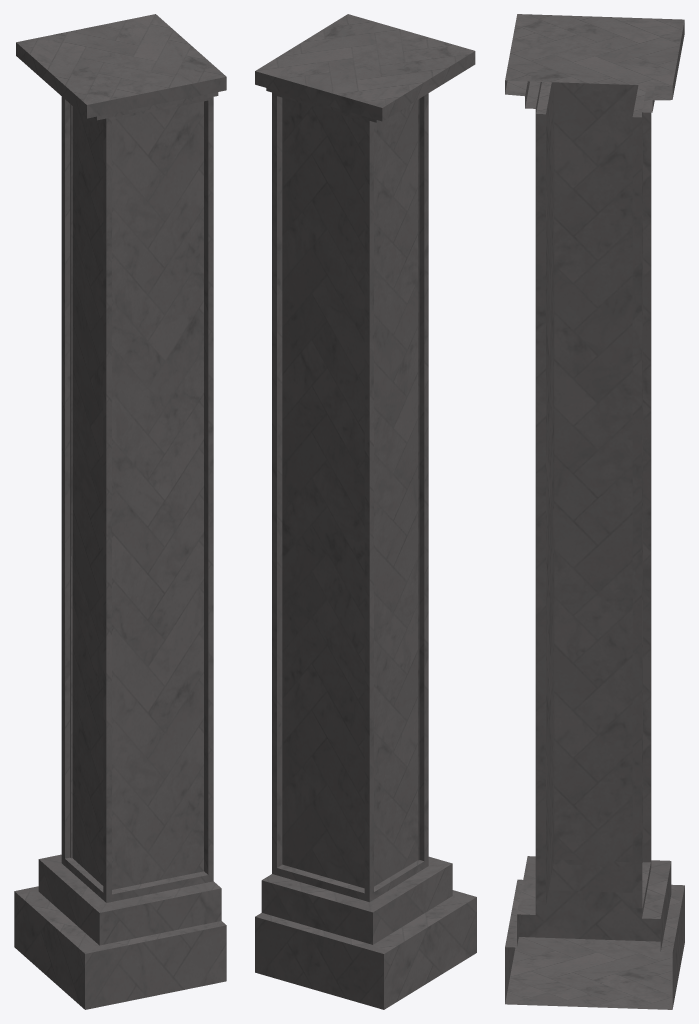
The model's file is main_pillar.fbx.
3 renders of one model, left to right at view 1: azimuth 30°, elevation 25°; view 2: azimuth 150°, elevation 25°; view 3: azimuth 270°, elevation 25°, orthographic. The views are drawn at different scales.
Visible parts, largest first — view 1: pillar; view 2: pillar; view 3: pillar.
Boxes of the visible parts, box(x1,y1,x2,y2) form: pillar: box(14, 14, 226, 1009); pillar: box(255, 14, 476, 1009); pillar: box(505, 14, 684, 1009).
Bounding box in the file's own units: 1.31 × 7.7 × 1.36.
